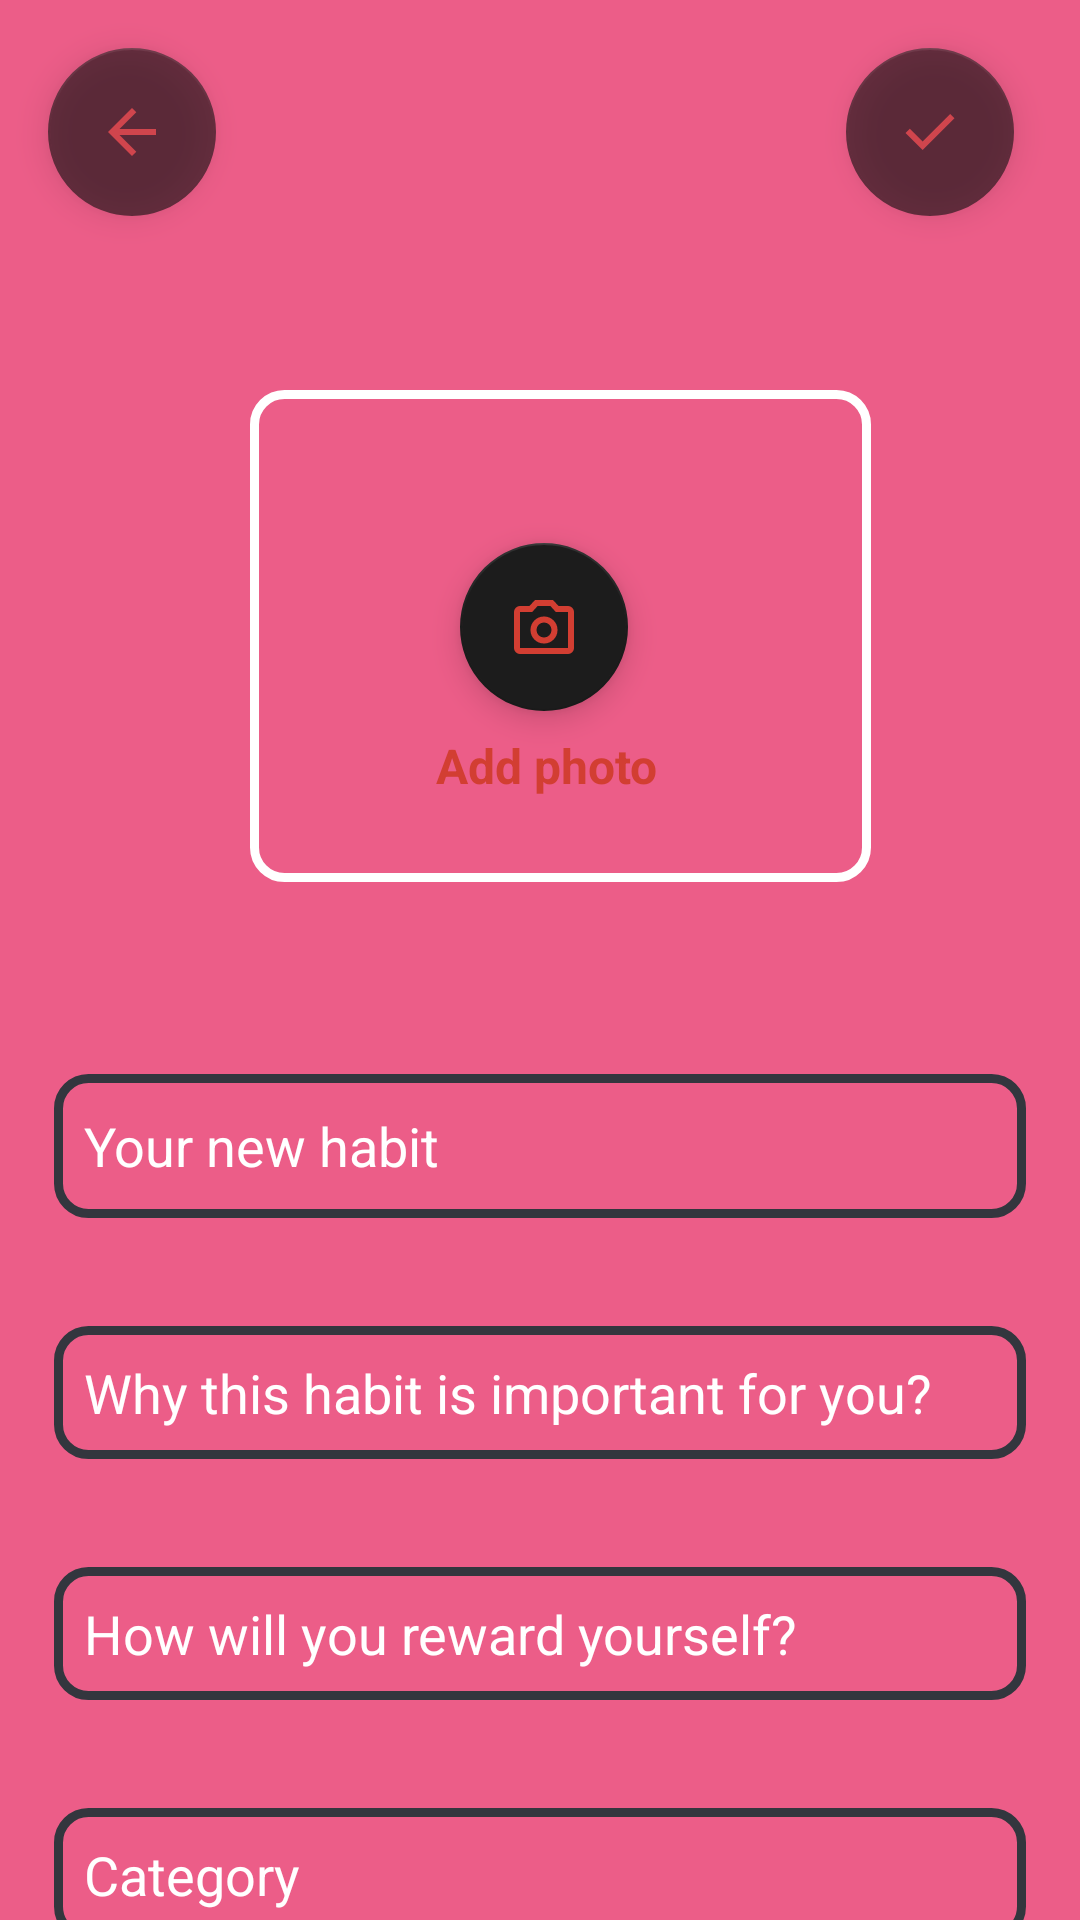

Screen size 1080px×1920px. Icon name, then its center in pixels as [x,y]:
back: [132,132]
camera: [544,627]
